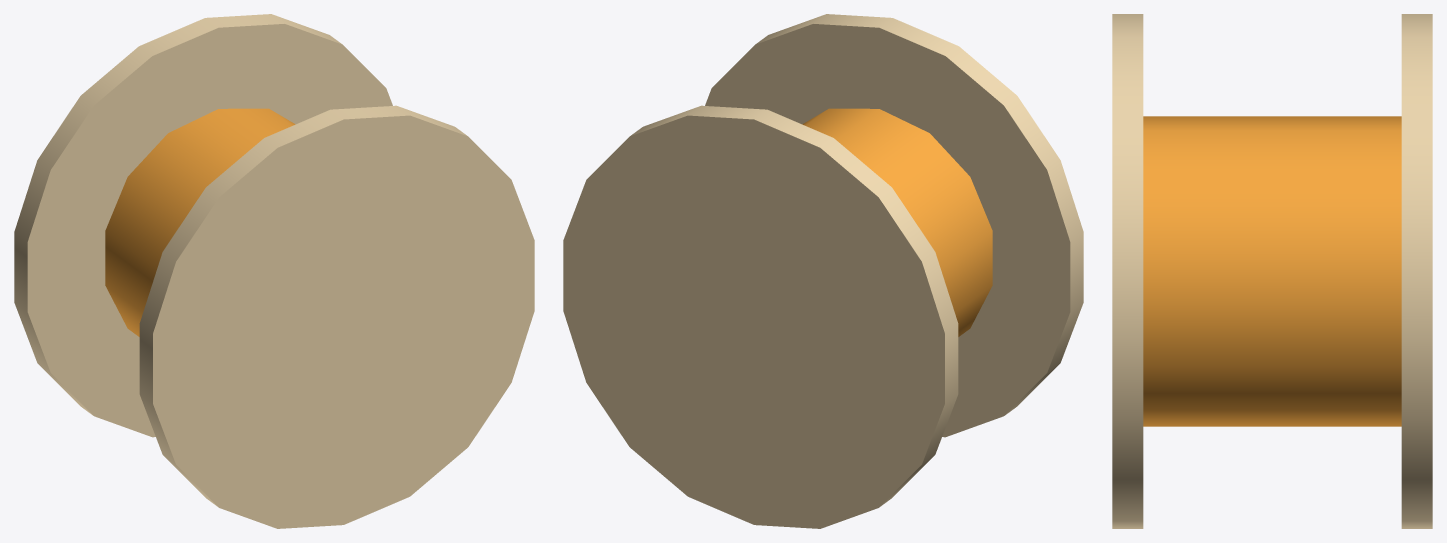
Rendered from cable_spool.glb.
3 views of the same model, side by side, from view 1: azimuth 30°, elevation 25°; view 2: azimuth 150°, elevation 25°; view 3: azimuth 270°, elevation 25° (orthographic). The views are drawn at different scales.
Visible parts, largest first — view 1: cable_spool; view 2: cable_spool; view 3: cable_spool.
Boxes of the visible parts, x1,y1,x2,y2 form: cable_spool: (14,14,534,528); cable_spool: (563,14,1083,528); cable_spool: (1112,14,1432,528).
Bounding box in the file's own units: 0.9848 × 1 × 0.62.
